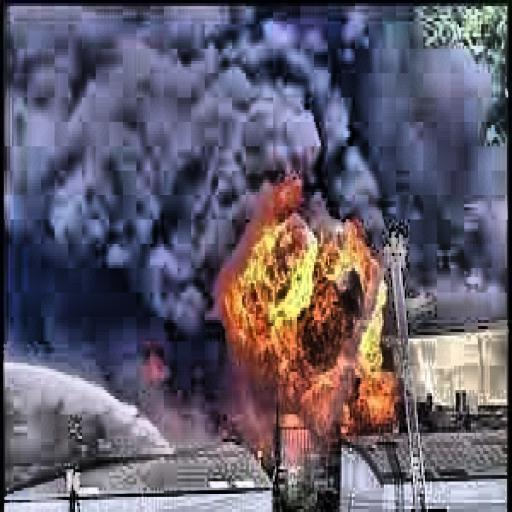fire: (226, 183, 404, 430)
